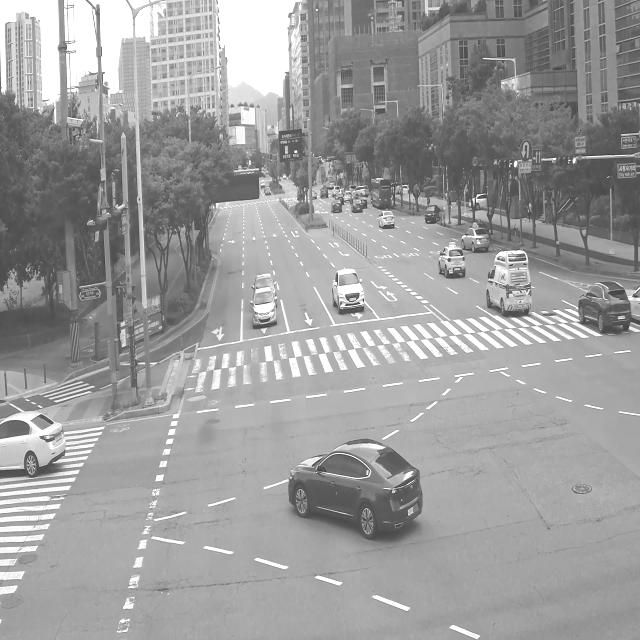Bus: (370, 172, 394, 214)
Car: (269, 411, 432, 551), (0, 400, 80, 490), (572, 269, 636, 343), (479, 244, 536, 324), (329, 263, 375, 324), (248, 284, 285, 338), (437, 236, 470, 282), (456, 222, 495, 257), (374, 201, 397, 234), (420, 203, 441, 226), (329, 192, 342, 215), (350, 193, 364, 212), (264, 186, 272, 197)
